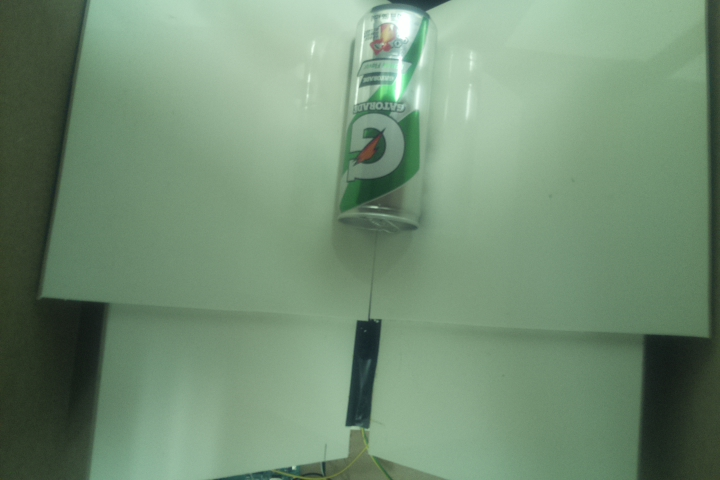can: (329, 3, 440, 235)
